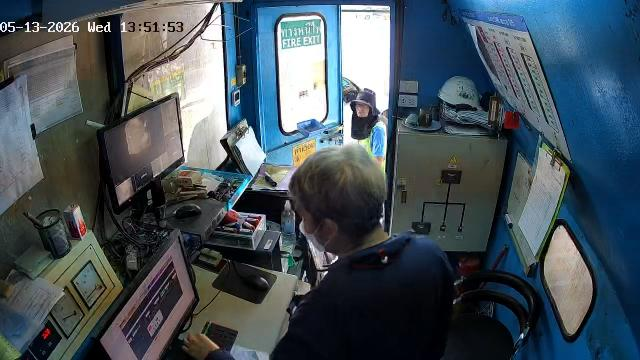Head: (290, 145, 386, 253)
People: (272, 145, 453, 359)
